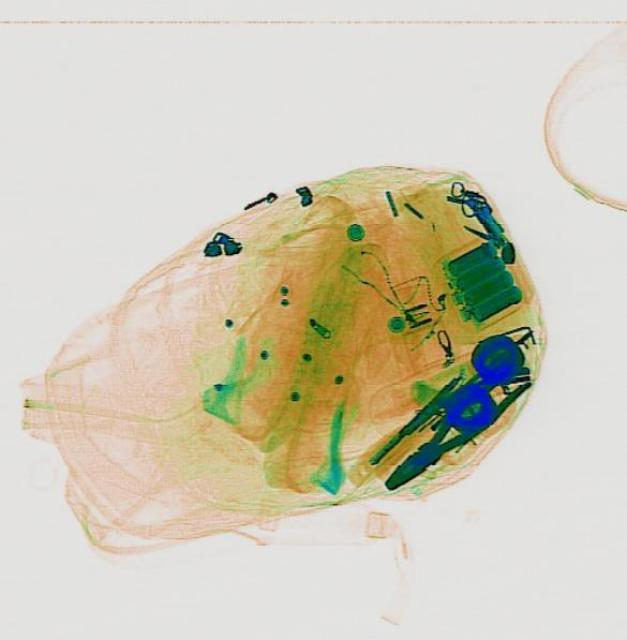Pliers: (365, 346, 542, 502)
